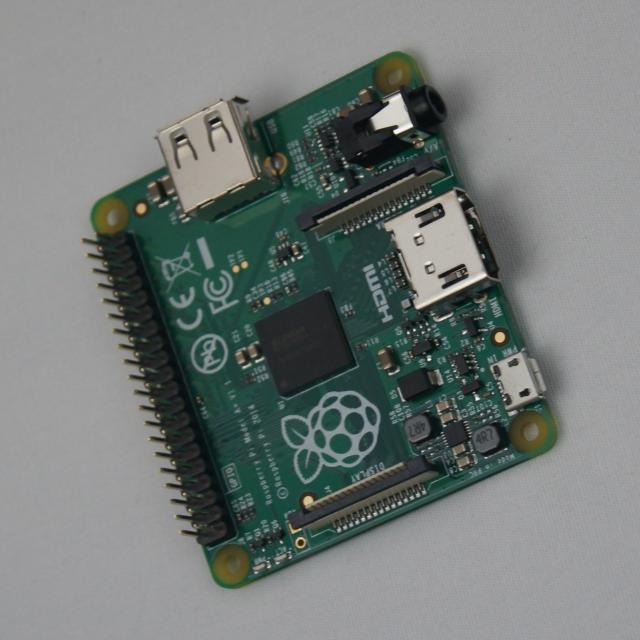Raspberry-Pi-1-A-: (87, 53, 558, 588)
